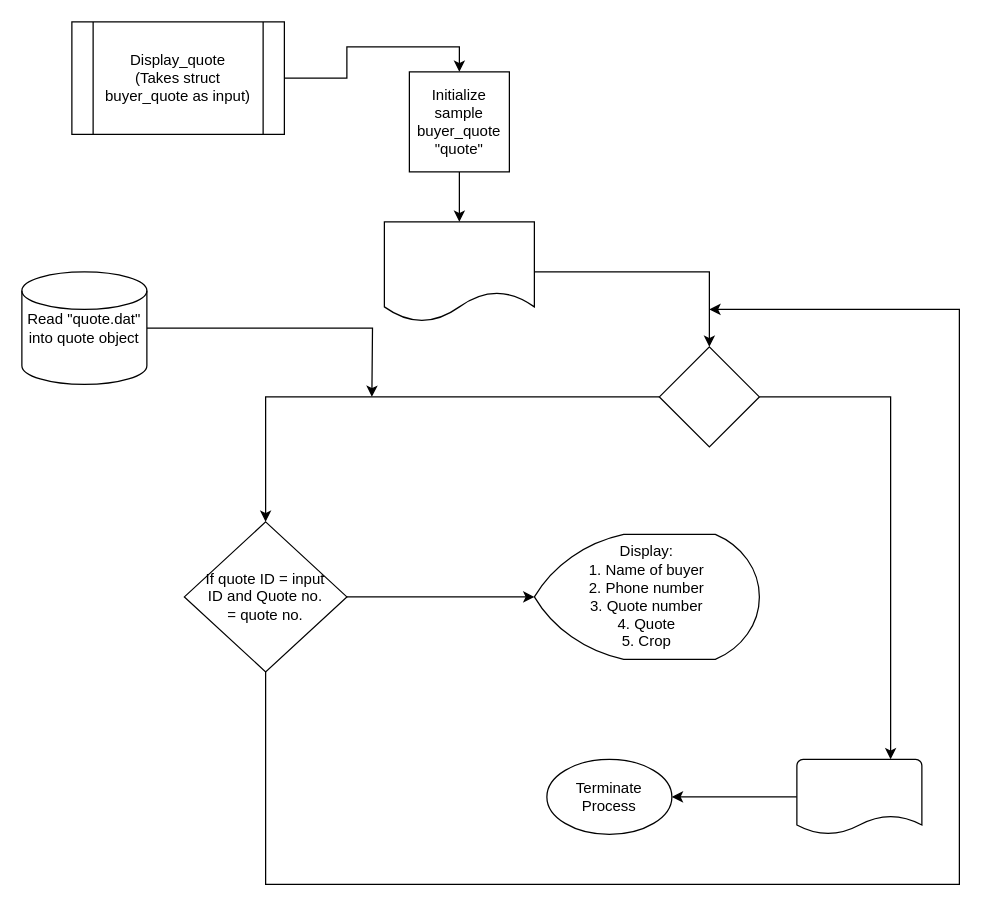
This 991x916 diagram has some shape labels left out. Here are the shapes that lost their labels. From the top down, the centre of each, then its label:
(x=458, y=271): Open "quote.dat"
(x=708, y=396): if End of file
(x=859, y=796): Close "quote.dat"
